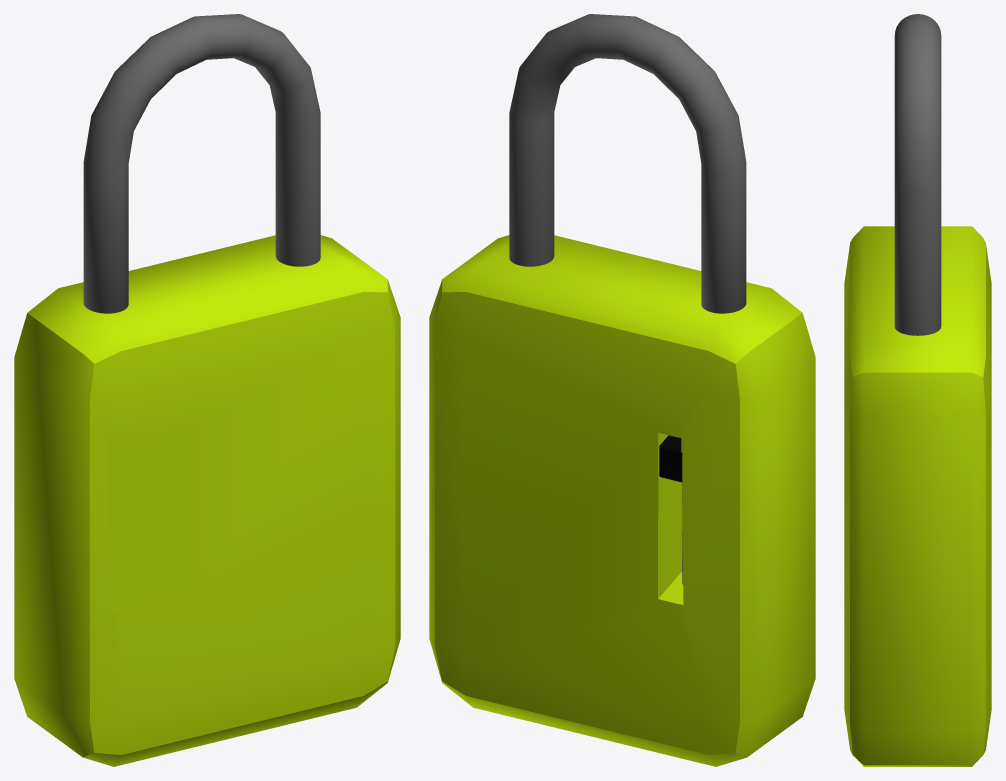
File: padlock code.fbx
3 views of the same model, side by side, from view 1: azimuth 30°, elevation 25°; view 2: azimuth 150°, elevation 25°; view 3: azimuth 270°, elevation 25° (orthographic). The views are drawn at different scales.
Parts seen in each view (by area): view 1: Cube, Cylinder; view 2: Cube, Cylinder, cylinder; view 3: Cube, Cylinder.
Boxes of the visible parts, x1=… form: Cube: x1=14, y1=235, x2=400, y2=766; Cylinder: x1=83, y1=14, x2=320, y2=313; Cube: x1=429, y1=235, x2=815, y2=766; Cylinder: x1=509, y1=14, x2=746, y2=313; cylinder: x1=659, y1=435, x2=682, y2=482; Cube: x1=844, y1=226, x2=991, y2=766; Cylinder: x1=894, y1=14, x2=941, y2=335.
Bounding box in the file's own units: 4.74 × 9.6 × 1.88.
